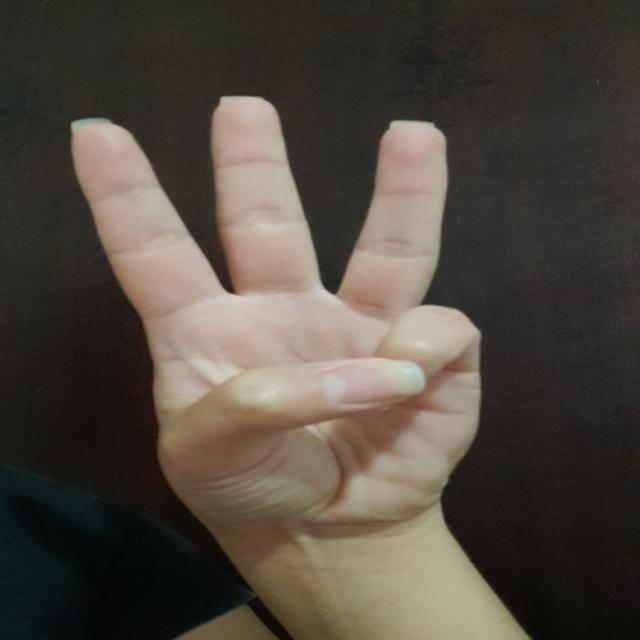W: (53, 86, 520, 532)
